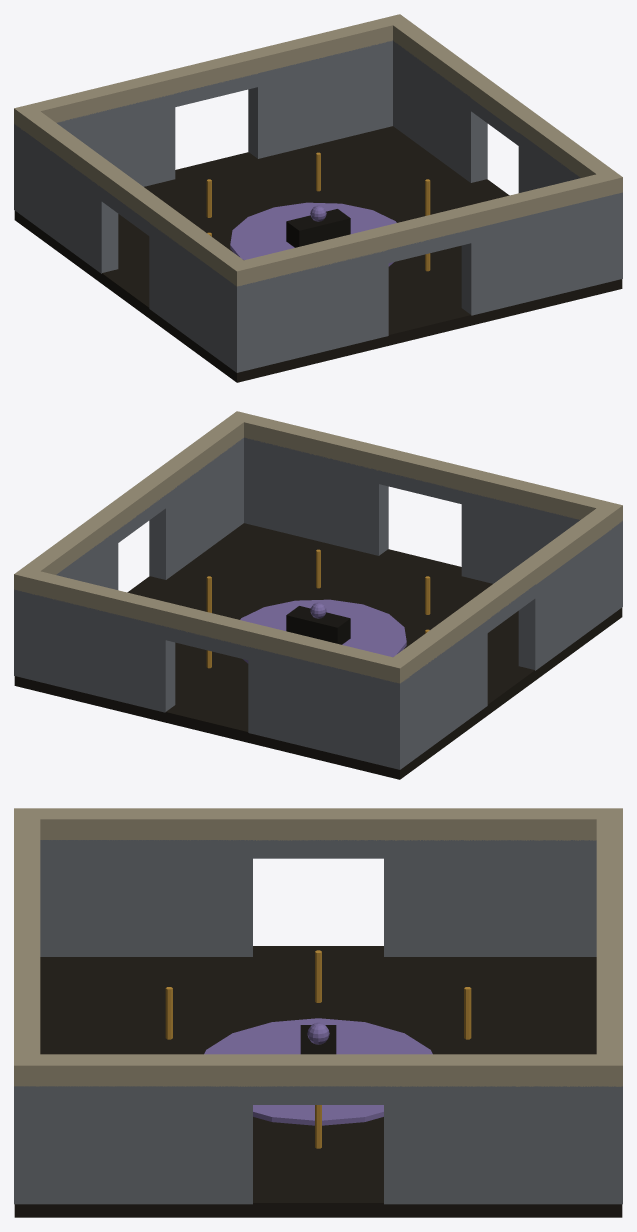
Rendered from CryptChamberFinal.fbx.
3 views of the same model, one above another, from view 1: azimuth 30°, elevation 25°; view 2: azimuth 150°, elevation 25°; view 3: azimuth 270°, elevation 25° (orthographic). The views are drawn at different scales.
Parts seen in each view (by area): view 1: CryptChamberFinal; view 2: CryptChamberFinal; view 3: CryptChamberFinal.
Boxes of the visible parts, x1,y1,x2,y2 form: CryptChamberFinal: (14,14,622,382); CryptChamberFinal: (14,411,622,779); CryptChamberFinal: (14,808,622,1217).
Size of the model in its own units: 1202 by 332 by 1202.
Materials: 6 (6 with a texture image).
